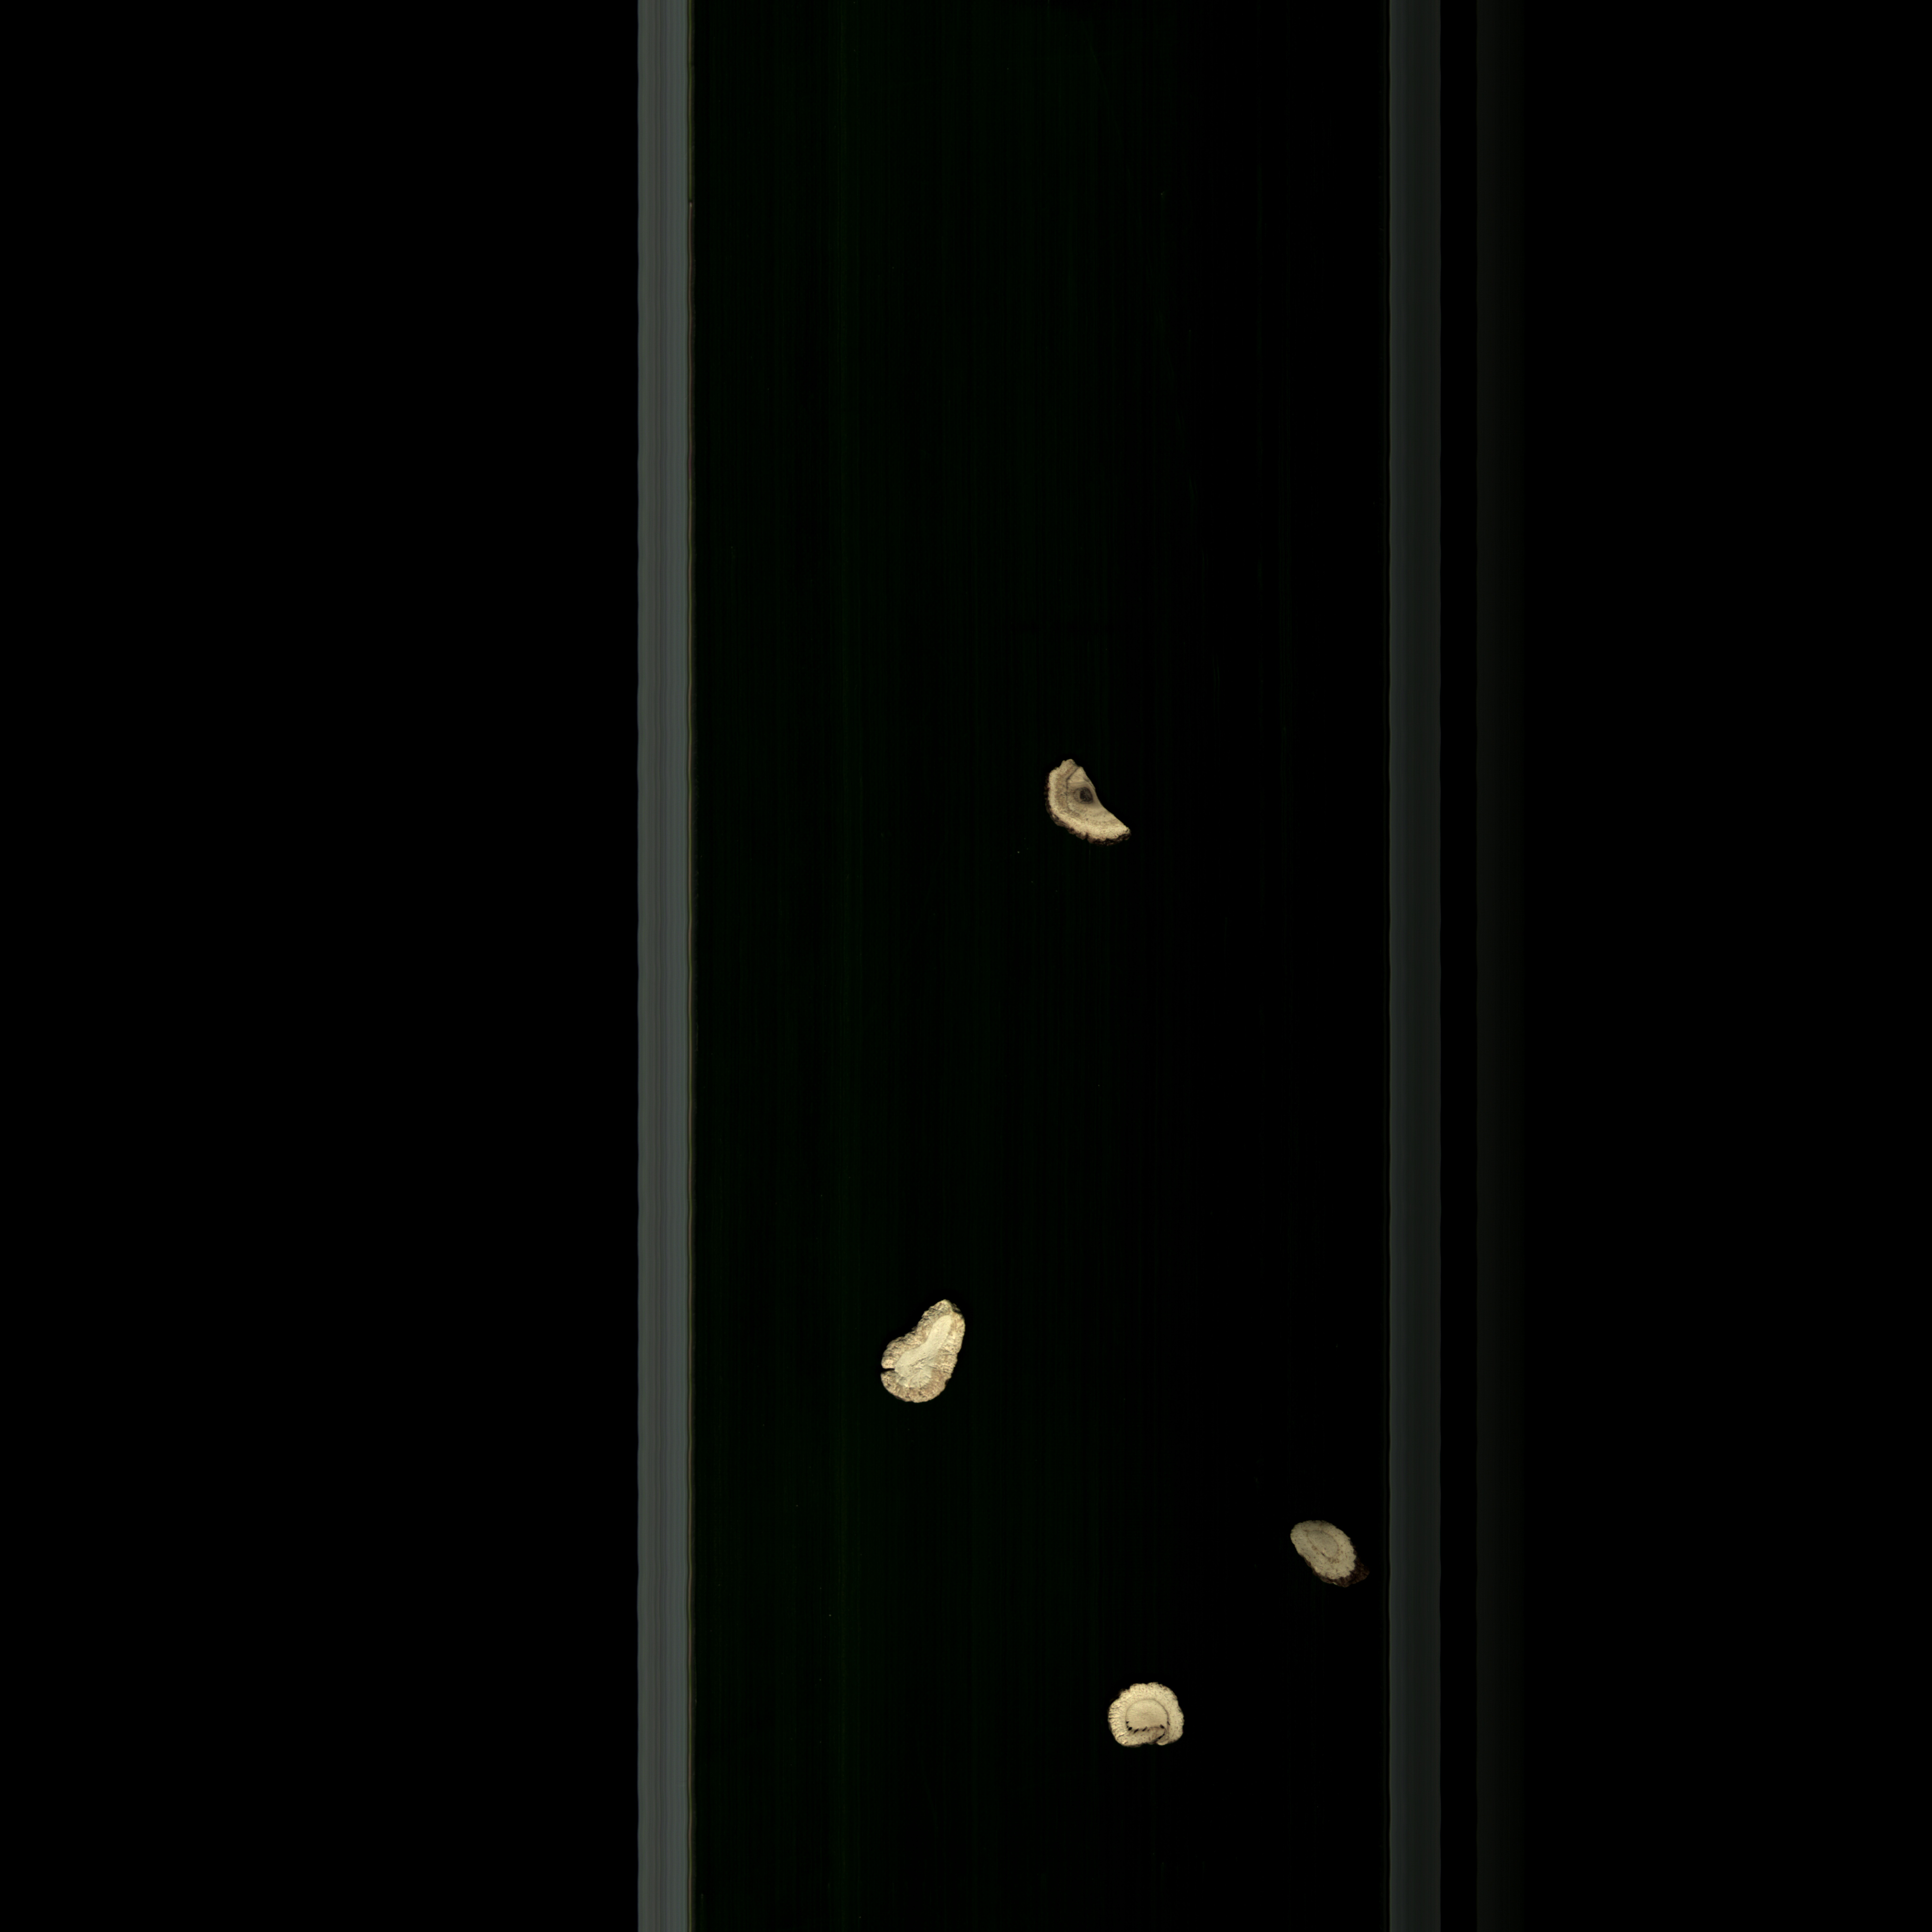hole: (1095, 1674, 1205, 1760)
moldy: (867, 1272, 996, 1438), (1035, 752, 1141, 855), (1290, 1518, 1366, 1596)
